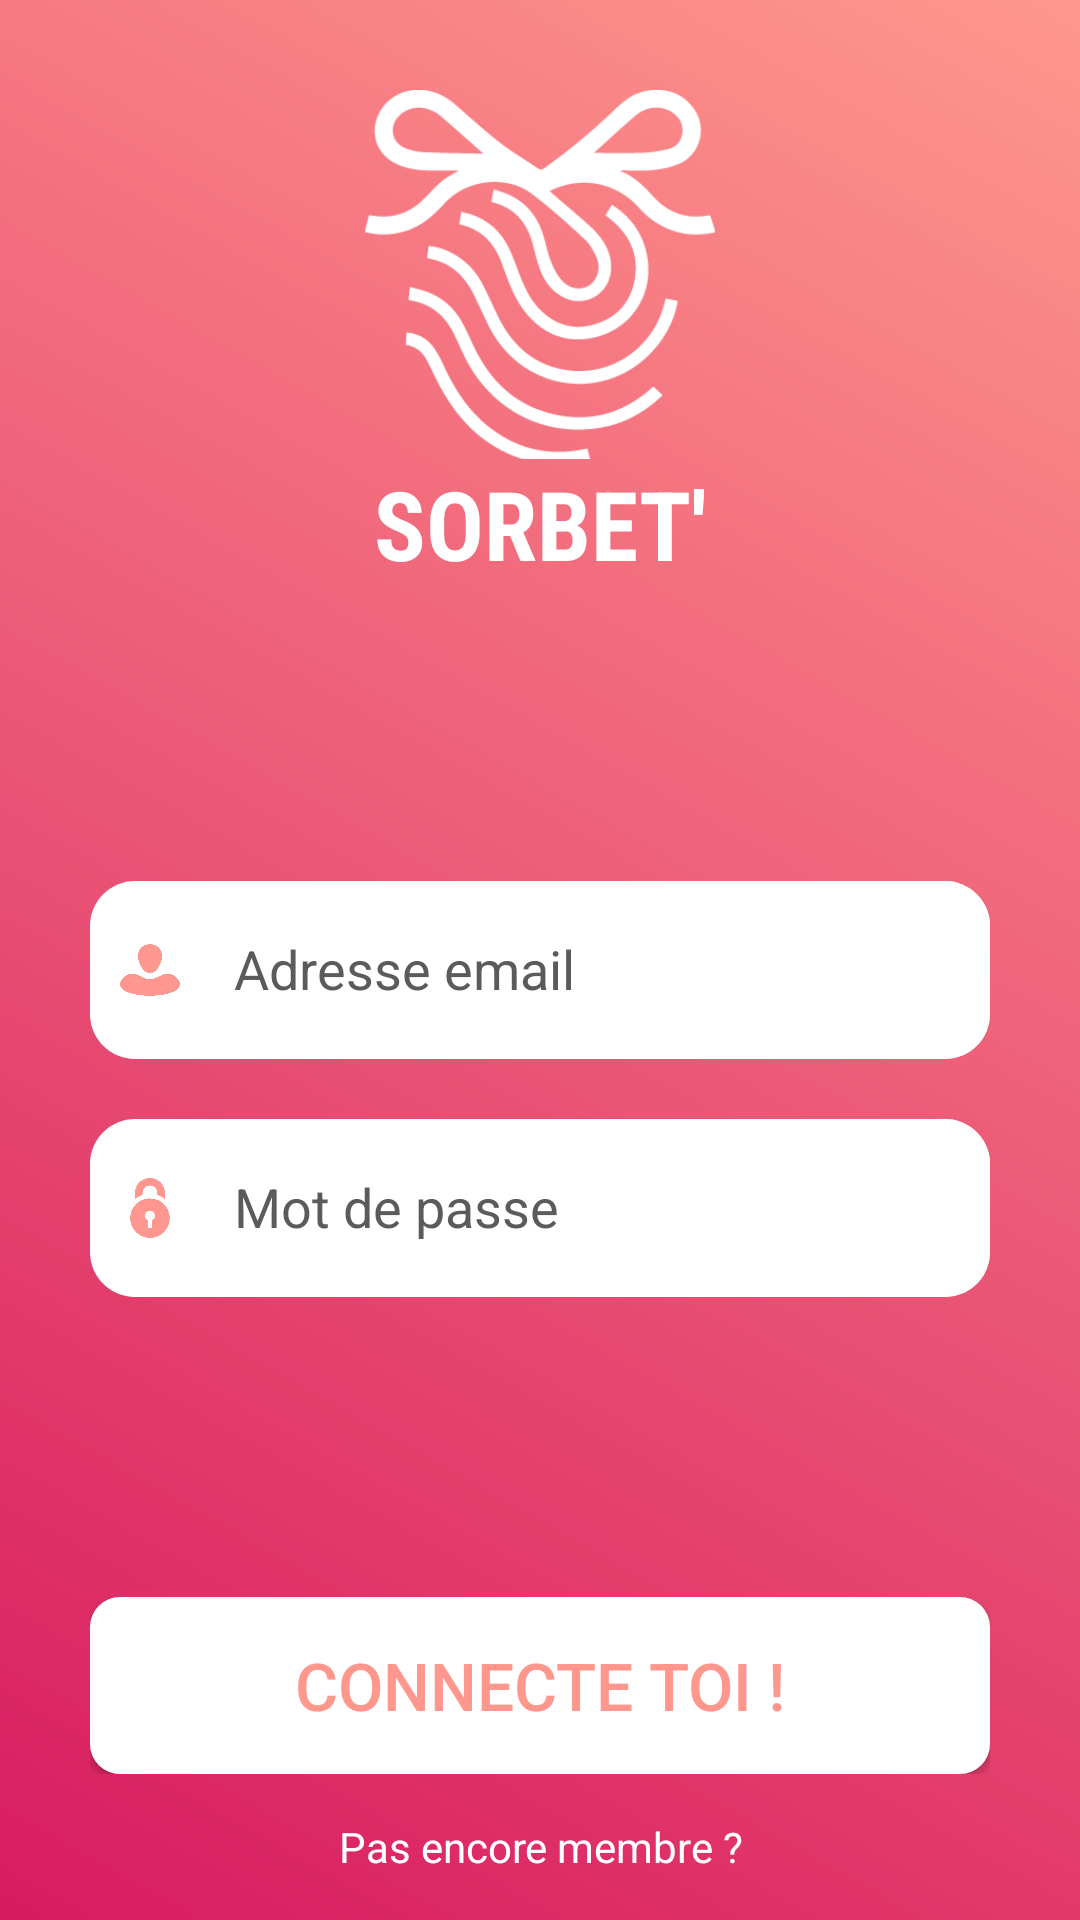

Where to tap for icons on this 1080 x 1920 app screen, as (x,y):
lock: (150,1208)
people: (150,970)
